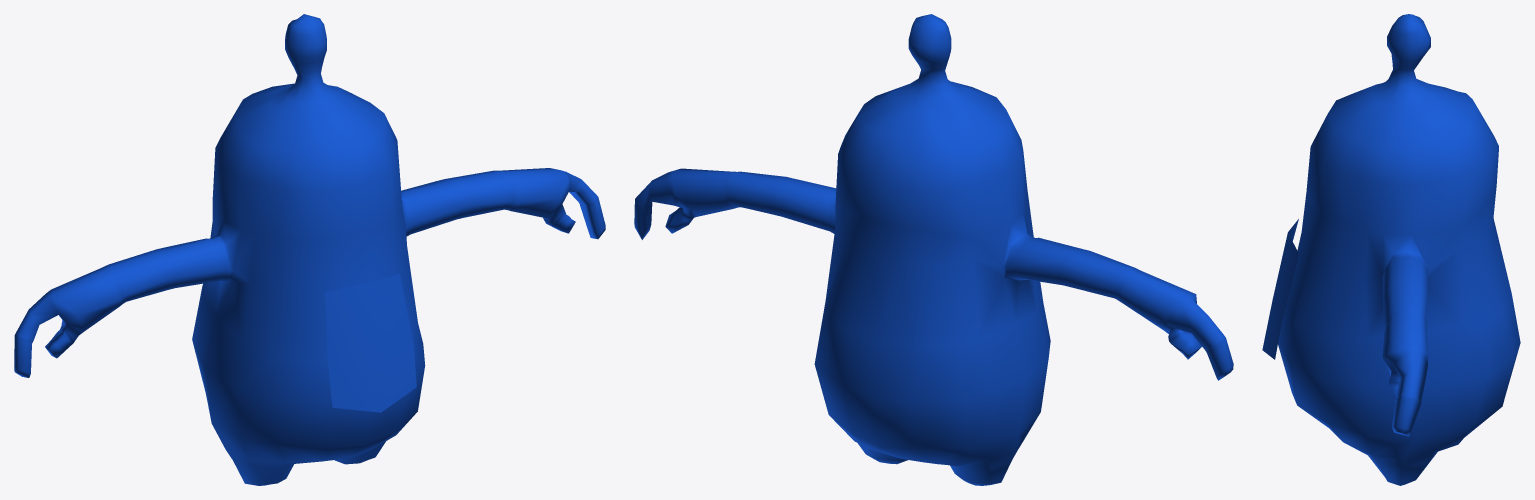
The model's file is gorkMesh1.fbx.
3 renders of one model, left to right at view 1: azimuth 30°, elevation 25°; view 2: azimuth 150°, elevation 25°; view 3: azimuth 270°, elevation 25°, orthographic. The views are drawn at different scales.
Visible parts, largest first — view 1: Gork_Mesh; view 2: Gork_Mesh; view 3: Gork_Mesh.
Boxes of the visible parts, x1=… form: Gork_Mesh: x1=14, y1=14, x2=605, y2=485; Gork_Mesh: x1=634, y1=14, x2=1233, y2=485; Gork_Mesh: x1=1262, y1=14, x2=1520, y2=485.
Bounding box in the file's own units: 398 × 292 × 154.
